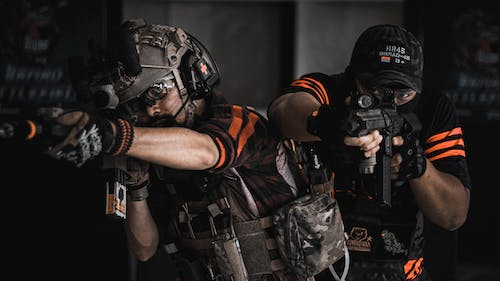gun: (0, 81, 138, 223), (343, 87, 423, 208)
